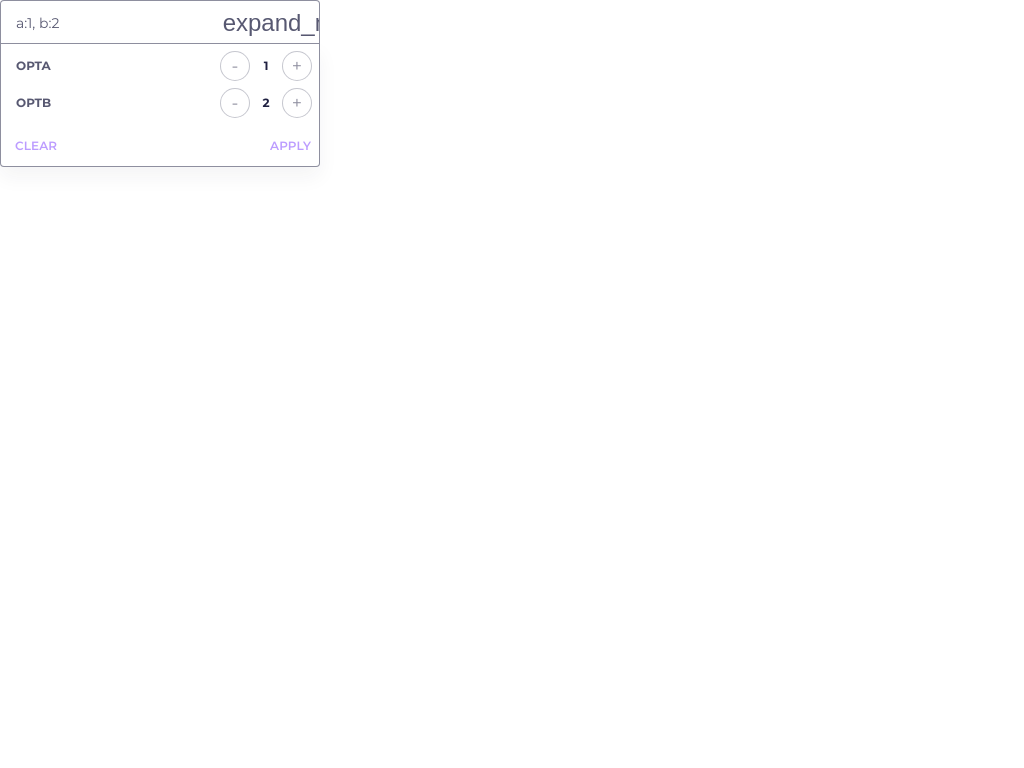
Test: Dropdown › apply behavior › should apply changes from the draft
Click the button named "decrease optA": (235, 66) [220,51,250,81]
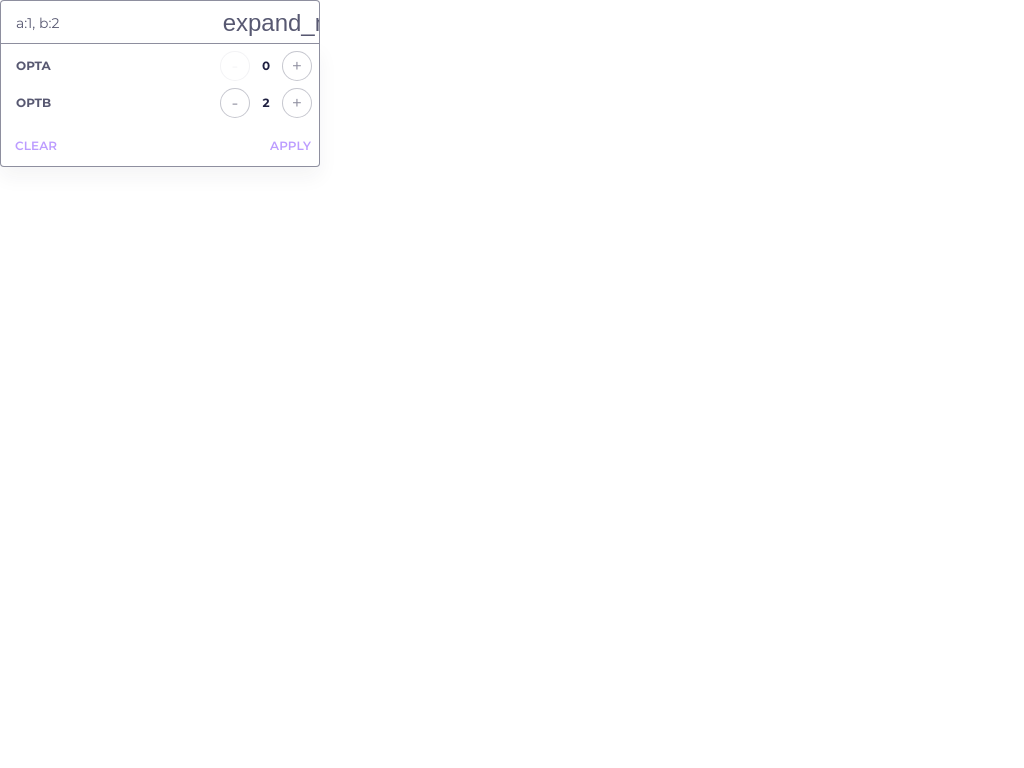
Click the button named "increase optB": (297, 103) [282,88,312,118]
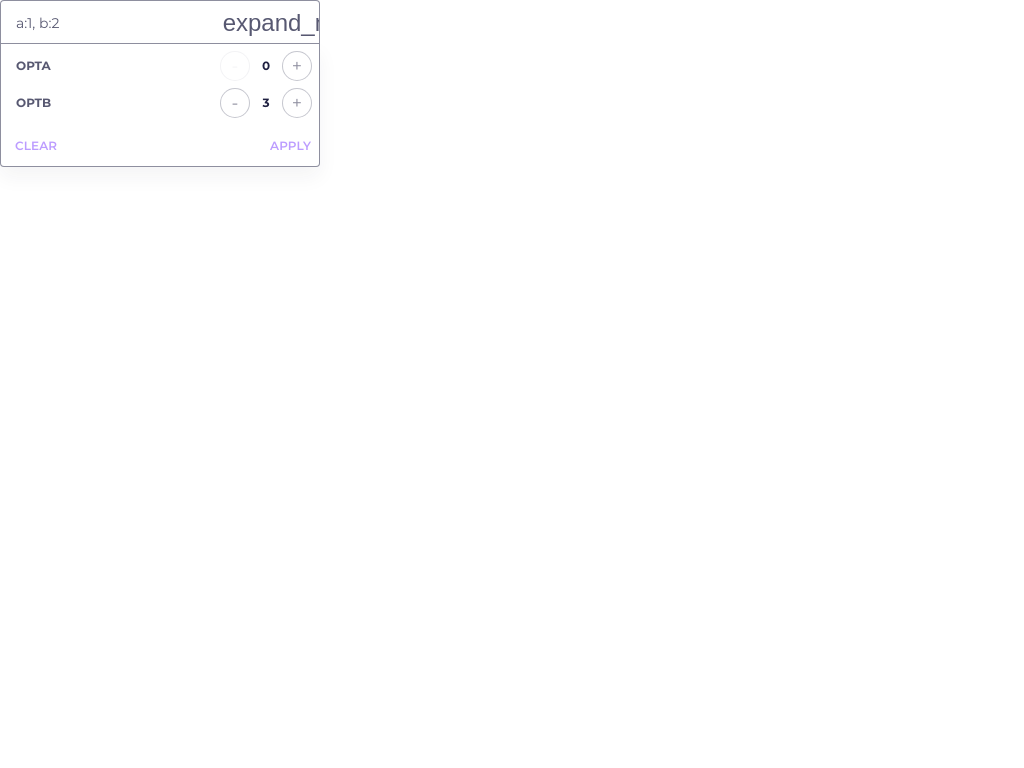
Click the button with test id "apply": (291, 146) [270,138,311,153]
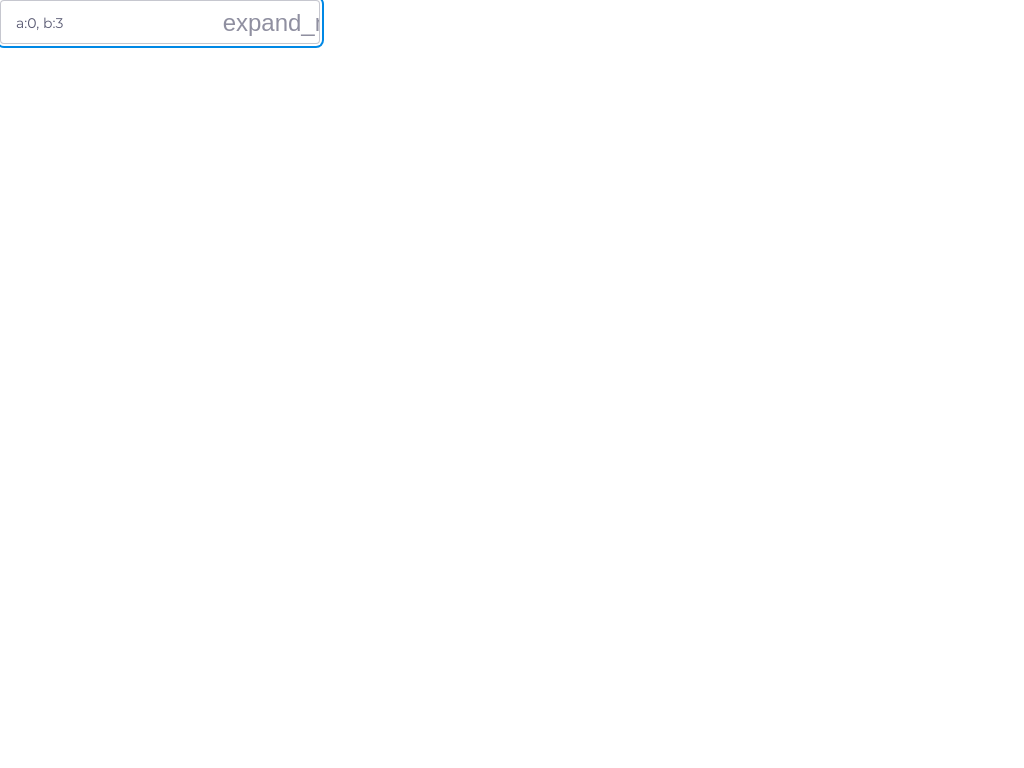
Result: the text with test id "display-value" reads "a:0, b:3" at [16,14,63,32]
